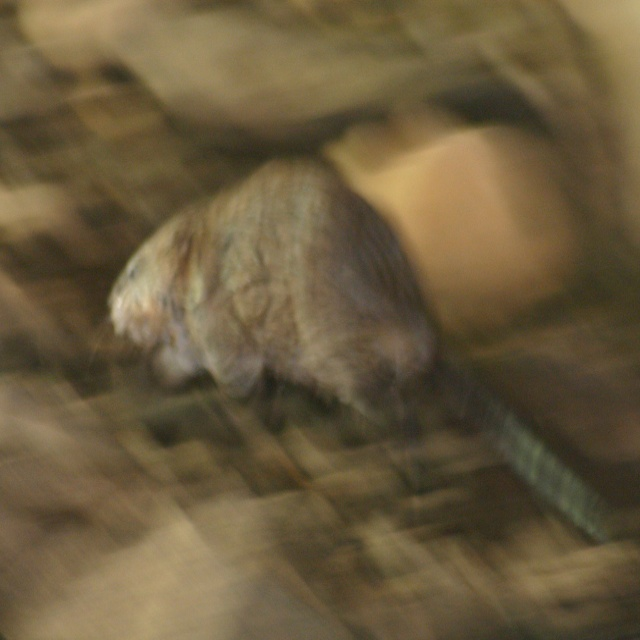Mouse: (124, 95, 562, 535)
